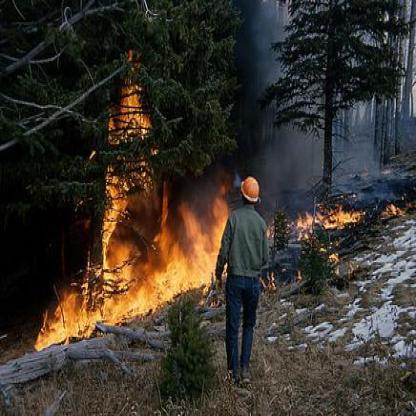fire: (99, 210, 233, 298), (105, 68, 162, 226), (41, 264, 108, 347), (296, 202, 370, 235)
other: (234, 170, 262, 203)
